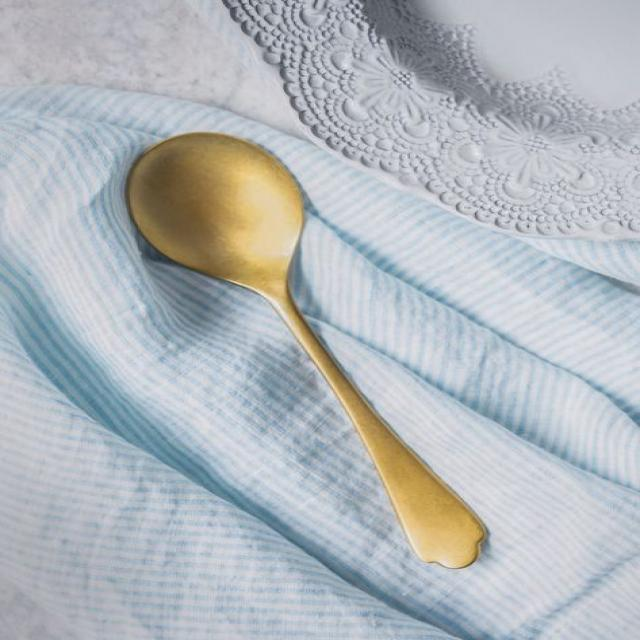spoon: (120, 130, 516, 582)
